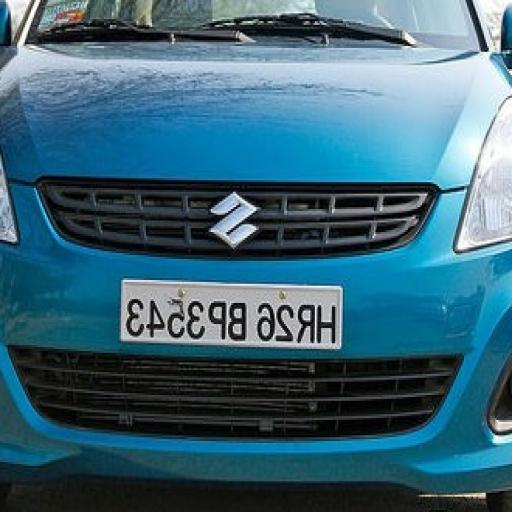License: (121, 290, 343, 350)
